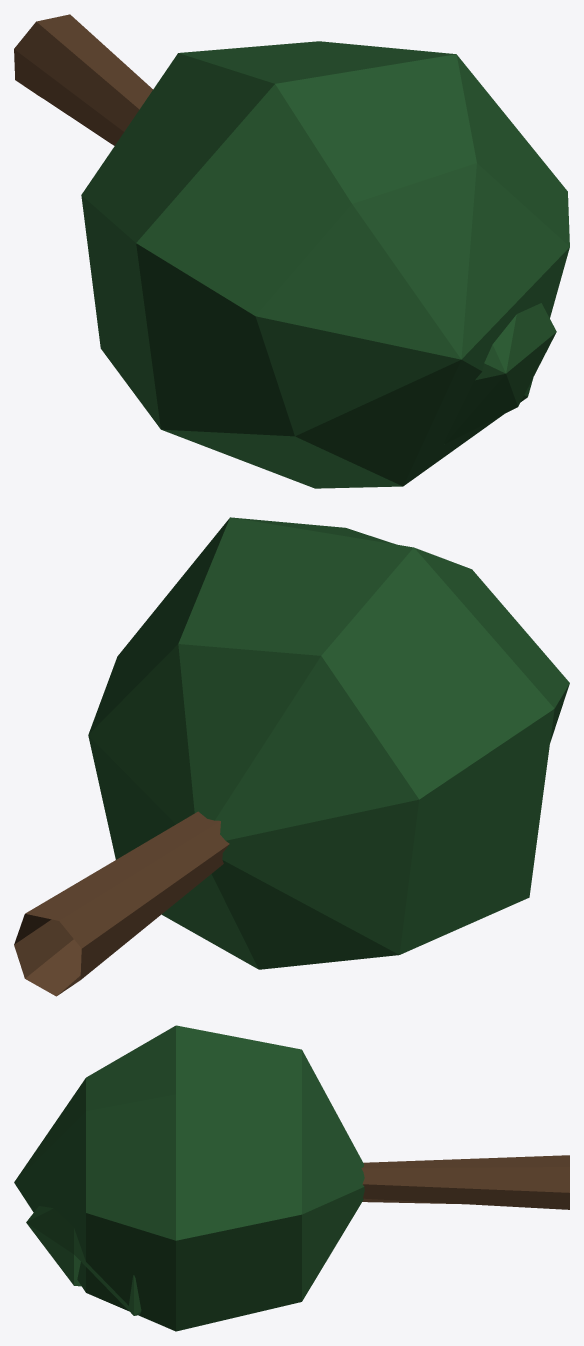
File: grown.glb
3 renders of one model, top to bottom at view 1: azimuth 30°, elevation 25°; view 2: azimuth 150°, elevation 25°; view 3: azimuth 270°, elevation 25°, orthographic. The views are drawn at different scales.
Parts seen in each view (by area): view 1: tree_07_grown; view 2: tree_07_grown; view 3: tree_07_grown.
Boxes of the visible parts, bbox=[...] form: tree_07_grown: bbox=[14, 14, 569, 488]; tree_07_grown: bbox=[14, 517, 569, 996]; tree_07_grown: bbox=[14, 1025, 569, 1331].
Size of the model in its own units: 15.31 by 14.04 by 25.52.
